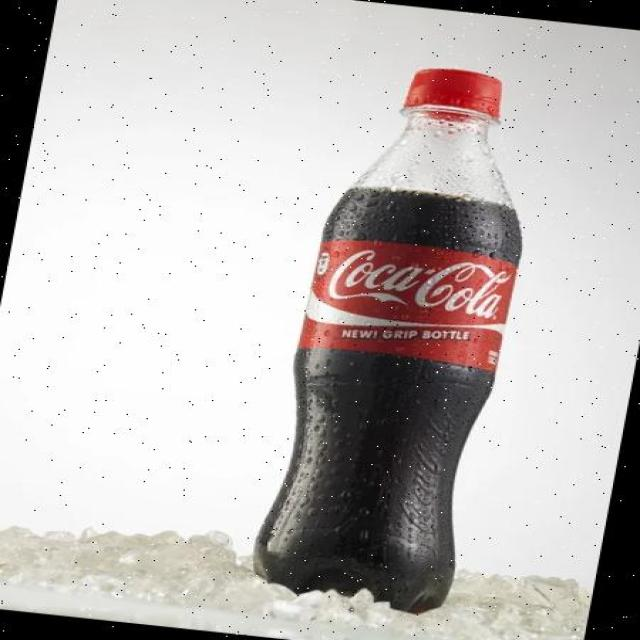coca-cola: (234, 48, 562, 630)
